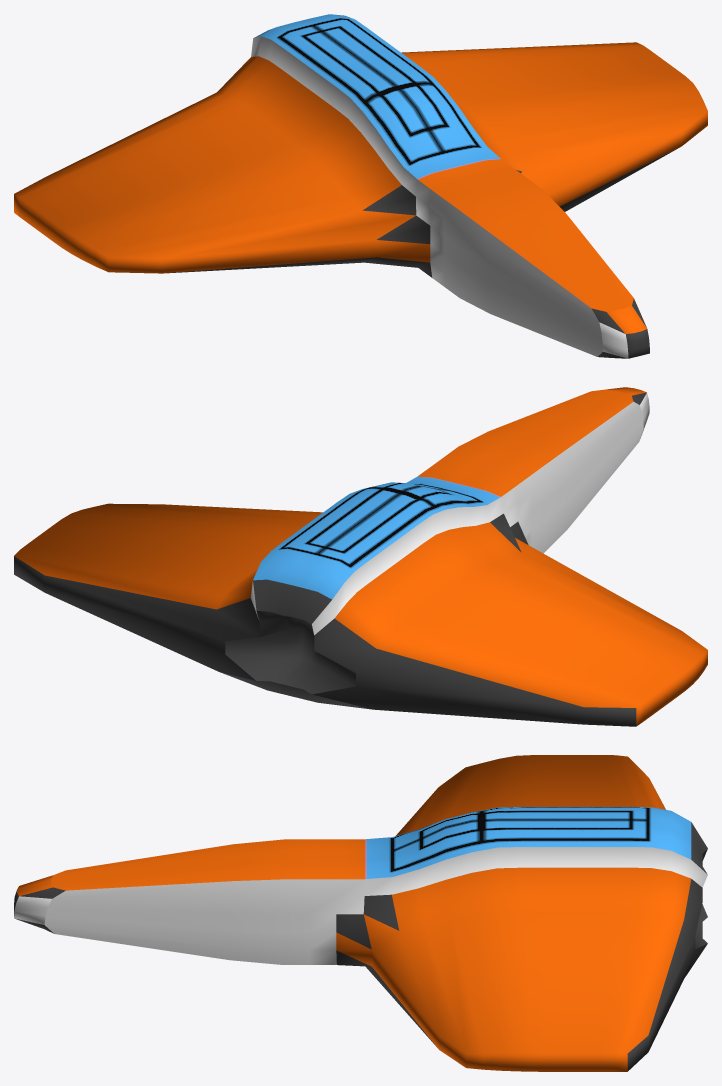
Rendered from spaceship.FBX.
The picture shows the model from 3 angles, top to bottom: view 1: azimuth 30°, elevation 25°; view 2: azimuth 150°, elevation 25°; view 3: azimuth 270°, elevation 25°; orthographic projection. The views are drawn at different scales.
Visible parts, largest first — view 1: Box001; view 2: Box001; view 3: Box001.
Part boxes in pixels (bbox=[...]): Box001: bbox=[14, 14, 707, 358]; Box001: bbox=[14, 387, 707, 726]; Box001: bbox=[14, 755, 707, 1071].
Bounding box in the file's own units: 35.37 × 7 × 34.83.
1 material, 1 textured.
